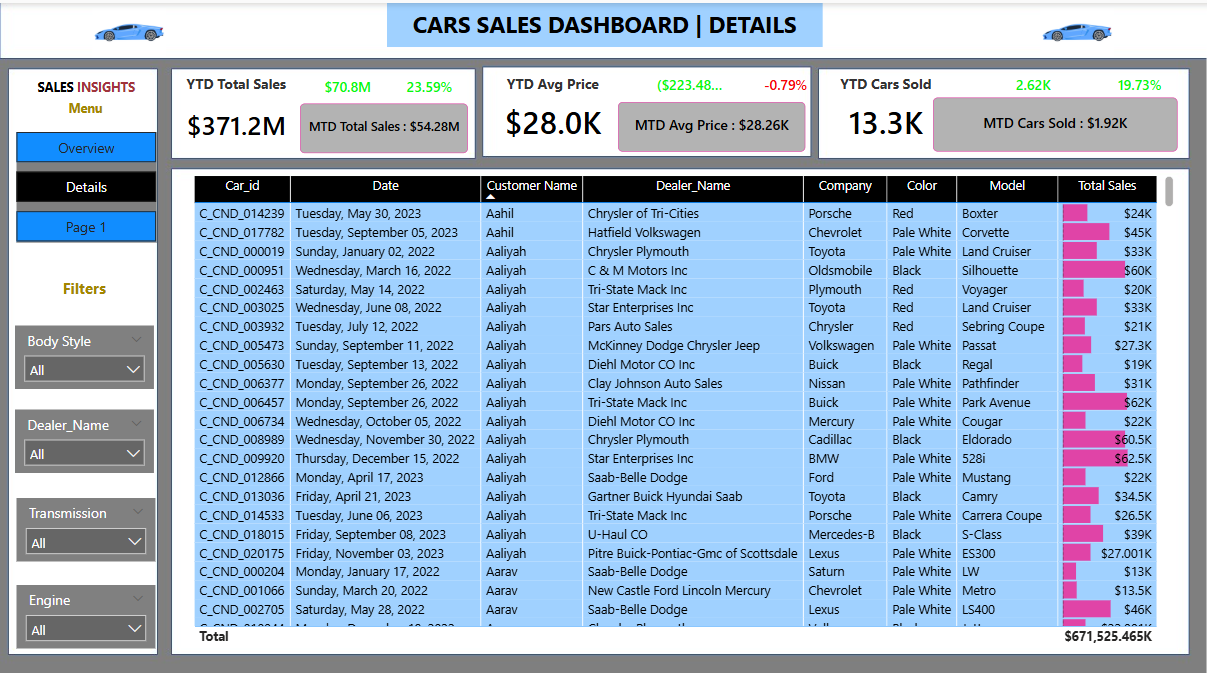

This screenshot's page, from the dashboard's own definition file:
{"tool":"powerbi","page":{"name":"Details","canvas":[1280,720],"ordinal":1},"visuals":[{"type":"card","title":"YTD Total Sales","fields":{"Values":["car_data.YTD Total Sales"]},"box":[181.3,74.8,138.4,89.1],"z":0},{"type":"card","fields":{"Values":["car_data.Sales Difference"]},"box":[319.7,70,97,41.4],"z":1000},{"type":"card","fields":{"Values":["car_data.YOY Sales Growth"]},"box":[413.6,68.4,82.7,44.5],"z":2000},{"type":"card","fields":{"Values":["car_data.MTD KPI"]},"box":[318.1,106.6,178.1,52.5],"z":3000},{"type":"card","title":"YTD Avg Price","fields":{"Values":["car_data.YTD Avg Price"]},"box":[516.9,74.8,138.4,82.7],"z":4000},{"type":"card","fields":{"Values":["car_data.Avg Price Difference"]},"box":[688.6,74.3,84.3,25.7],"z":5000},{"type":"card","fields":{"Values":["car_data.YOY Avg Price Growth"]},"box":[790,74.3,84.3,25.7],"z":6000},{"type":"card","fields":{"Values":["car_data.MTD Avg Price KPI"]},"box":[655.3,105,198.8,52.5],"z":7000},{"type":"card","title":"YTD Cars Sold","fields":{"Values":["car_data.YTD Cars Sold"]},"box":[874.8,74.8,128.8,82.7],"z":8000},{"type":"card","fields":{"Values":["car_data.Cars Sold Difference"]},"box":[1052.7,74.5,84.5,25.5],"z":9000},{"type":"card","fields":{"Values":["car_data.YOY Cars Sold Growth"]},"box":[1165.5,74.5,84.5,25.5],"z":10000},{"type":"card","fields":{"Values":["car_data.MTD Cars Sold KPI"]},"box":[989.4,100.2,259.3,57.3],"z":11000},{"type":"textbox","box":[410,0,461.7,46.7],"z":12000},{"type":"slicer","fields":{"Values":["car_data.Body Style"]},"box":[16.2,341.2,147.5,67.5],"z":13000},{"type":"slicer","fields":{"Values":["car_data.Dealer_Name"]},"box":[16.2,431.2,147.5,67.5],"z":14000},{"type":"slicer","fields":{"Values":["car_data.Transmission"]},"box":[17.5,525,147.5,67.5],"z":15000},{"type":"slicer","fields":{"Values":["car_data.Engine"]},"box":[17.5,617.5,147.5,67.5],"z":16000},{"type":"textbox","box":[15,286.2,150,36.2],"z":17000},{"type":"tableEx","fields":{"Values":["car_data.Car_id","car_data.Date","car_data.Customer Name","car_data.Dealer_Name","car_data.Company","car_data.Color","car_data.Model","car_data.Price ($)"]},"box":[201.1,177.8,1048.9,507.8],"z":18000},{"type":"pageNavigator","box":[17.5,137.5,148.8,117.5],"z":19000},{"type":"textbox","box":[17.5,97.5,146.2,37.5],"z":20000},{"type":"textbox","box":[17.5,74.8,147.9,36.6],"z":21000},{"type":"image","box":[0,0,274,62],"z":22000},{"type":"image","box":[1006,0,274,62],"z":23000}]}

Visuals, with their boxes in screenshot pixels (x1, y1, x2, y2), scaled from the page's 1280x720 canvas onto the 1207x673 screenshot:
"YTD Total Sales" card: x1=171 y1=70 x2=301 y2=153
card - car_data.Sales Difference: x1=301 y1=65 x2=393 y2=104
card - car_data.YOY Sales Growth: x1=390 y1=64 x2=468 y2=106
card - car_data.MTD KPI: x1=300 y1=100 x2=468 y2=149
"YTD Avg Price" card: x1=487 y1=70 x2=618 y2=147
card - car_data.Avg Price Difference: x1=649 y1=69 x2=729 y2=93
card - car_data.YOY Avg Price Growth: x1=745 y1=69 x2=824 y2=93
card - car_data.MTD Avg Price KPI: x1=618 y1=98 x2=805 y2=147
"YTD Cars Sold" card: x1=825 y1=70 x2=946 y2=147
card - car_data.Cars Sold Difference: x1=993 y1=70 x2=1072 y2=93
card - car_data.YOY Cars Sold Growth: x1=1099 y1=70 x2=1179 y2=93
card - car_data.MTD Cars Sold KPI: x1=933 y1=94 x2=1177 y2=147
textbox: x1=387 y1=0 x2=822 y2=44
slicer - car_data.Body Style: x1=15 y1=319 x2=154 y2=382
slicer - car_data.Dealer_Name: x1=15 y1=403 x2=154 y2=466
slicer - car_data.Transmission: x1=17 y1=491 x2=156 y2=554
slicer - car_data.Engine: x1=17 y1=577 x2=156 y2=640
textbox: x1=14 y1=268 x2=156 y2=301
tableEx - car_data.Car_id x car_data.Date: x1=190 y1=166 x2=1179 y2=641
pageNavigator: x1=17 y1=129 x2=157 y2=238
textbox: x1=17 y1=91 x2=154 y2=126
textbox: x1=17 y1=70 x2=156 y2=104
image: x1=0 y1=0 x2=258 y2=58
image: x1=949 y1=0 x2=1206 y2=58
